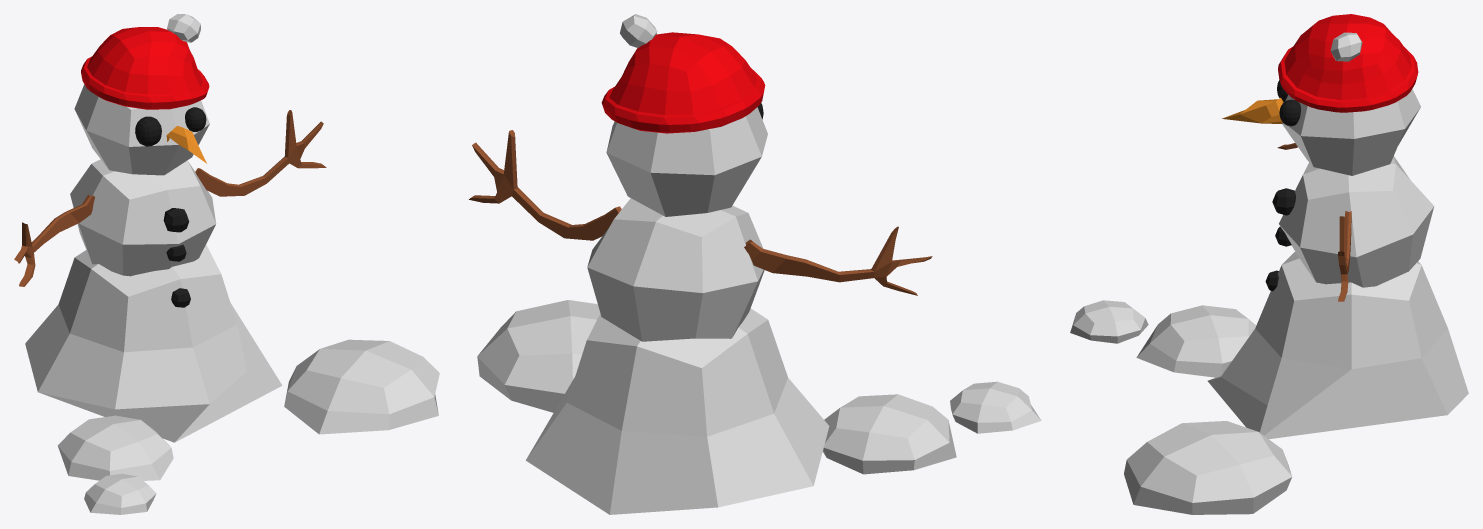
File: kardanadam.fbx
3 views of the same model, side by side, from view 1: azimuth 30°, elevation 25°; view 2: azimuth 150°, elevation 25°; view 3: azimuth 270°, elevation 25° (orthographic). The views are drawn at different scales.
Parts seen in each view (by area): view 1: erımıs kar.001, sapka.001, sol kol.001, goz2.003, goz1.002, havuc.001; view 2: erımıs kar.001, sapka.001, sol kol.001; view 3: erımıs kar.001, sapka.001, sol kol.001, havuc.001, goz2.003, goz1.002.
Boxes of the visible parts, <box> form: erımıs kar.001: <box>25,84,439,514</box>; sapka.001: <box>81,14,209,109</box>; sol kol.001: <box>14,110,326,286</box>; goz2.003: <box>163,208,190,307</box>; goz1.002: <box>135,107,206,146</box>; havuc.001: <box>166,125,206,163</box>; erımıs kar.001: <box>477,107,1041,514</box>; sapka.001: <box>601,14,765,133</box>; sol kol.001: <box>469,130,932,295</box>; erımıs kar.001: <box>1070,89,1468,514</box>; sapka.001: <box>1278,14,1418,112</box>; sol kol.001: <box>1277,143,1351,301</box>; havuc.001: <box>1222,98,1283,123</box>; goz2.003: <box>1265,188,1295,291</box>; goz1.002: <box>1277,80,1300,126</box>.
Bounding box in the file's own units: 391 × 348 × 320.
